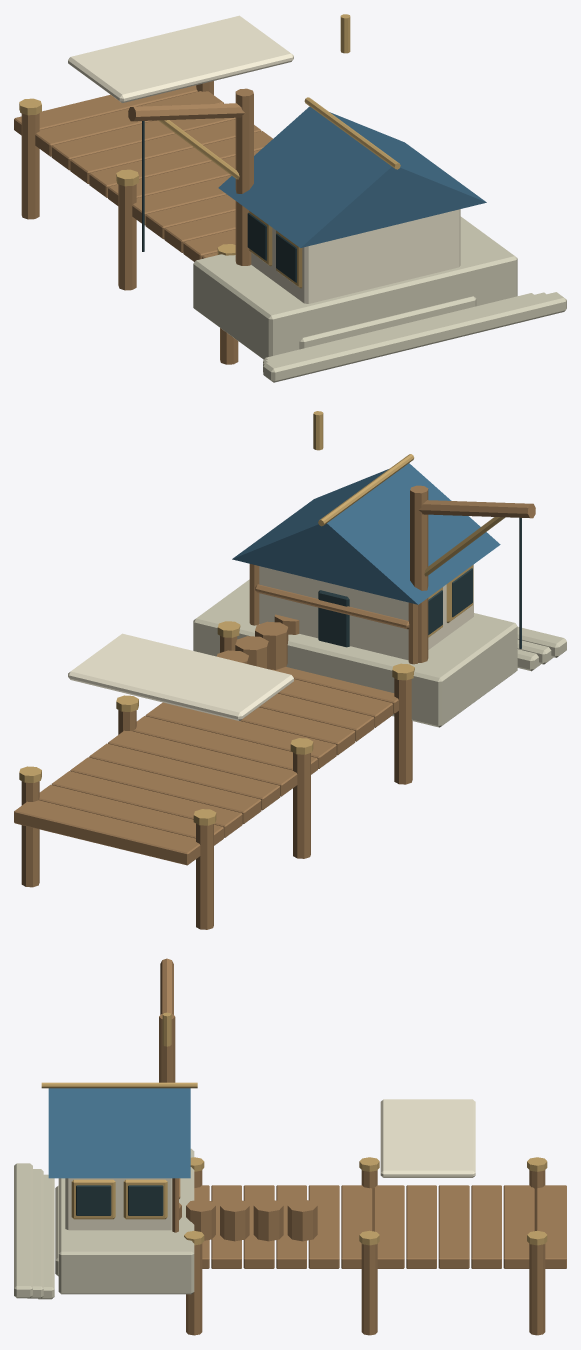
File: level_21.glb
3 renders of one model, top to bottom at view 1: azimuth 30°, elevation 25°; view 2: azimuth 150°, elevation 25°; view 3: azimuth 270°, elevation 25°, orthographic. The views are drawn at different scales.
Visible parts, largest first — view 1: fishing_wharf — level 21; view 2: fishing_wharf — level 21; view 3: fishing_wharf — level 21.
Part boxes in pixels (left/top/right/bottom): fishing_wharf — level 21: left=14, top=14, right=566, bottom=382; fishing_wharf — level 21: left=14, top=411, right=566, bottom=929; fishing_wharf — level 21: left=14, top=958, right=566, bottom=1335.
Bounding box in the file's own units: 5.14 × 4.67 × 8.16.
